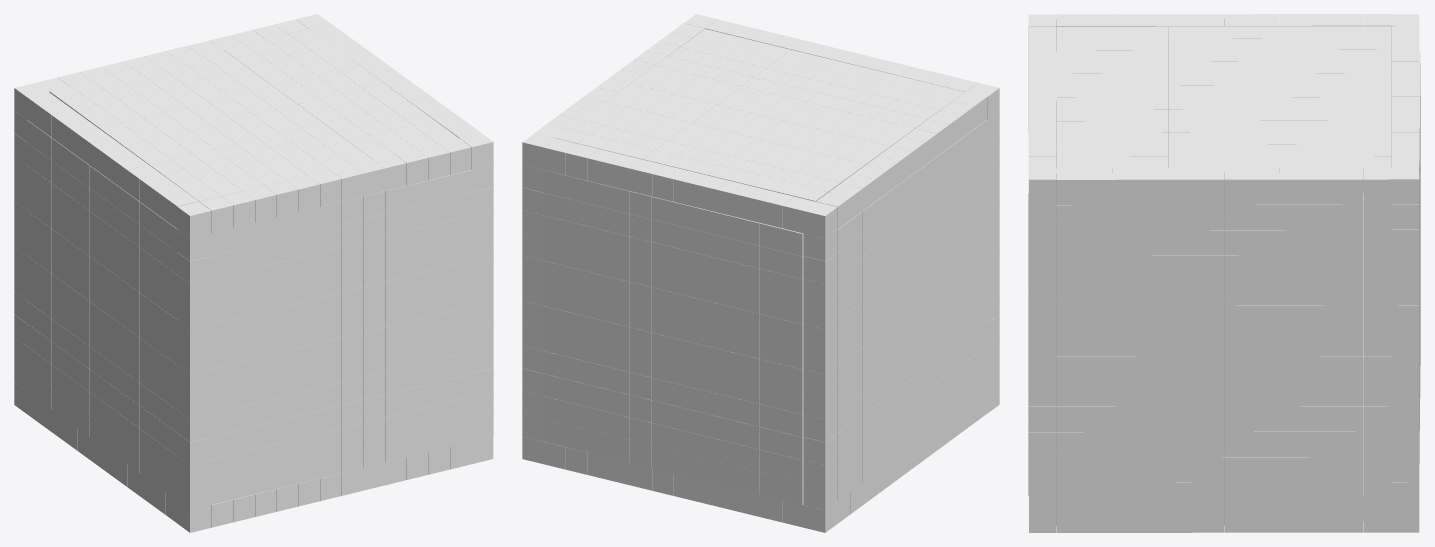
File: BaseRoom1.fbx
3 views of the same model, side by side, from view 1: azimuth 30°, elevation 25°; view 2: azimuth 150°, elevation 25°; view 3: azimuth 270°, elevation 25° (orthographic). The views are drawn at different scales.
Visible parts, largest first — view 1: BaseRoom1; view 2: BaseRoom1; view 3: BaseRoom1.
Part boxes in pixels (bbox=[...]): BaseRoom1: bbox=[14, 14, 493, 532]; BaseRoom1: bbox=[522, 14, 999, 532]; BaseRoom1: bbox=[1028, 14, 1420, 532].
Bounding box in the file's own units: 34.85 × 34.75 × 34.88.
1 material, 1 textured.
